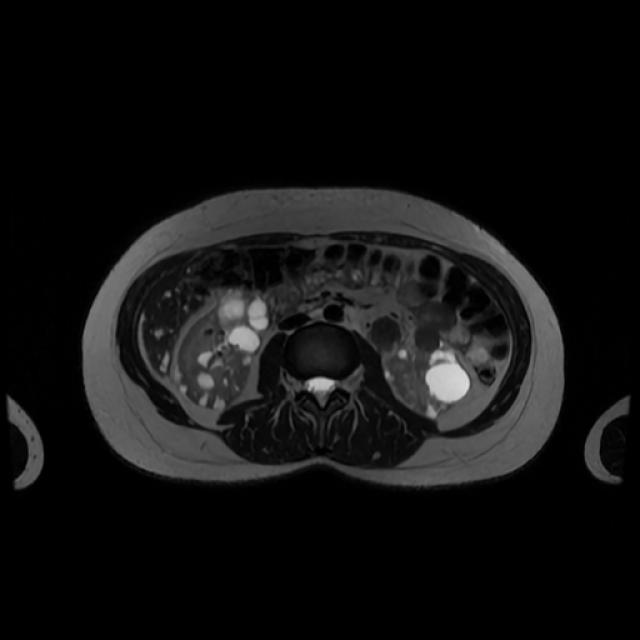sag: (173, 287, 270, 412)
sol: (384, 344, 471, 420)
